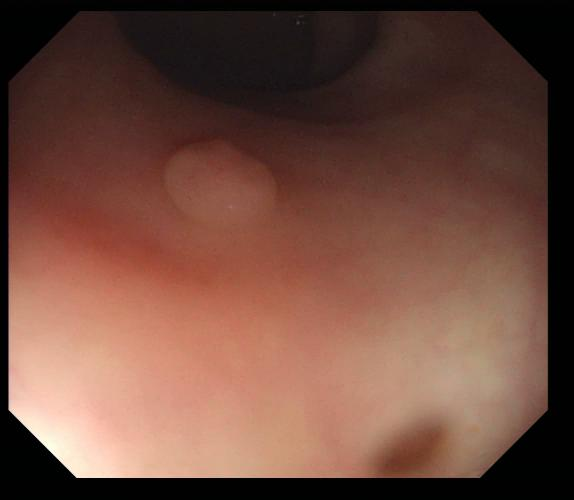polyp: (159, 136, 282, 241)
